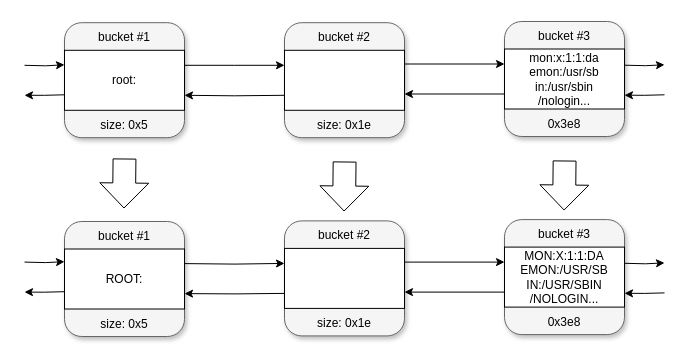
This 690x363 diagram has some shape labels left out. The centre of each missing label's shape, as x and y in pixels:
"x:0:0:root:/ roo t:/bin/ba sh\nda e" belongs at pixel 344 79.
"X:0:0:ROOT:/ ROOT:/BIN/BA SH\n DAE" belongs at pixel 344 277.
